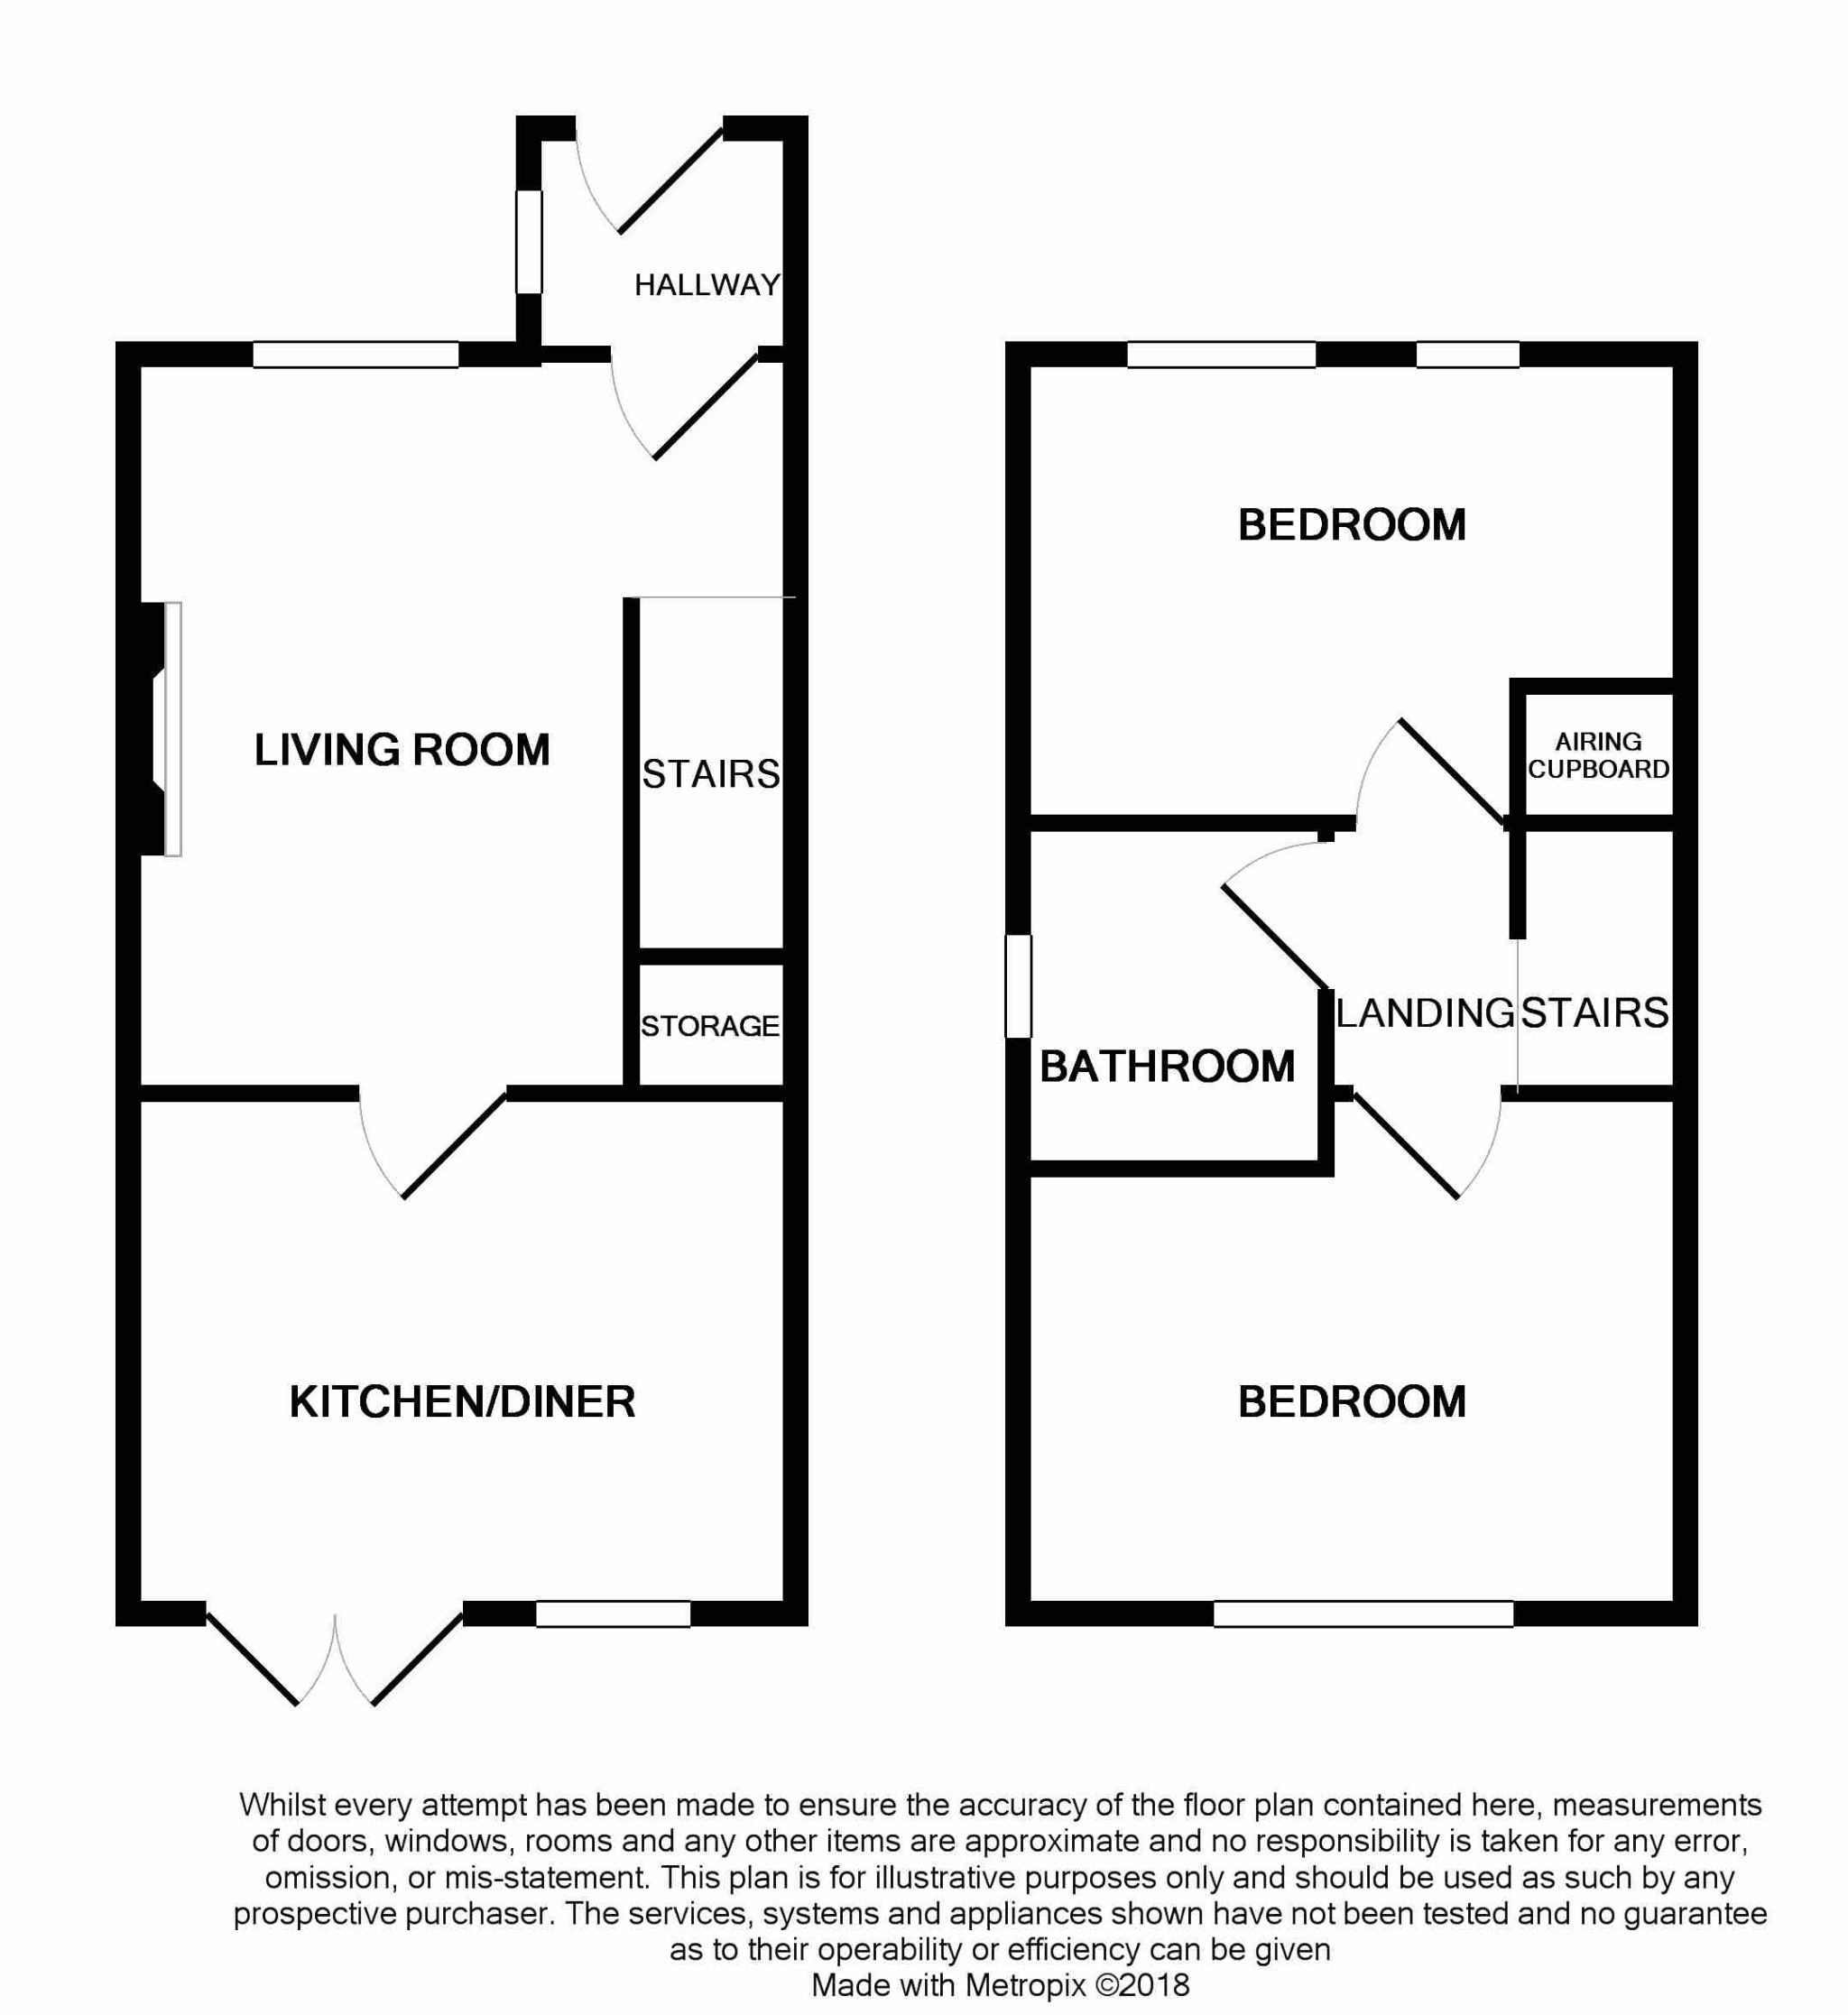wall: (793, 126, 800, 1645), (1009, 1048, 1021, 1636), (1009, 1157, 1339, 1172), (507, 1079, 800, 1092), (1011, 823, 1348, 830), (1042, 355, 1701, 358), (1522, 1608, 1690, 1620), (1025, 363, 1028, 939), (1021, 1599, 1218, 1608), (632, 613, 635, 1076), (1508, 678, 1681, 686), (1516, 681, 1522, 923), (1520, 823, 1687, 830), (620, 951, 809, 957), (1513, 1092, 1678, 1097), (1329, 992, 1332, 1185), (135, 1095, 356, 1097)
